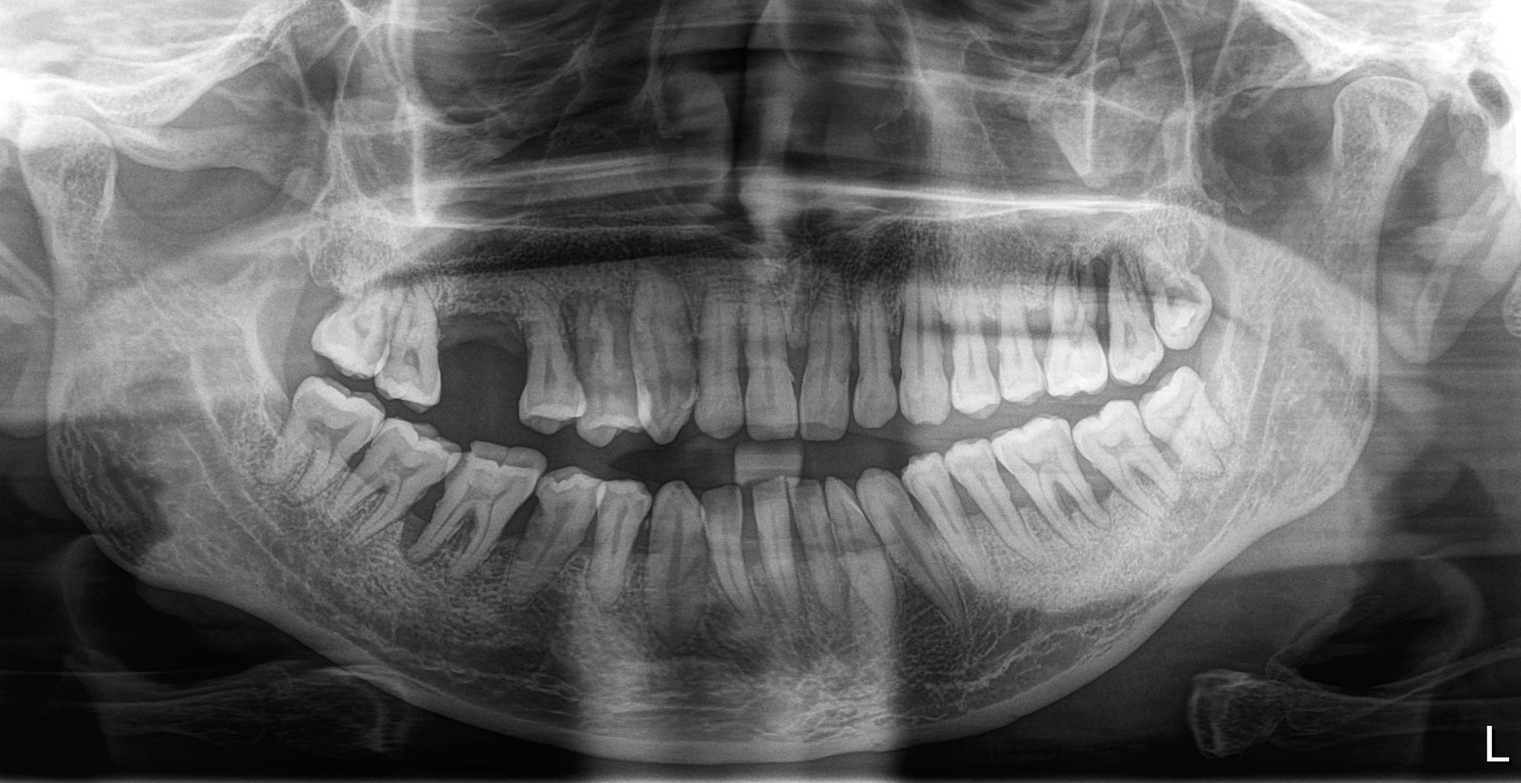Dental Caries: (459, 458, 519, 514)
Impacted Third Molar: (1146, 247, 1245, 348), (1140, 386, 1254, 465)
Missing Tooth: (434, 282, 528, 391)
Periodontal Pocket: (1071, 449, 1127, 526)
